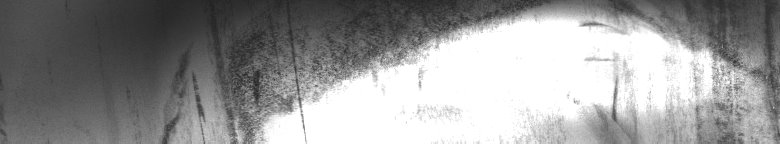ke: (166, 4, 640, 136)
